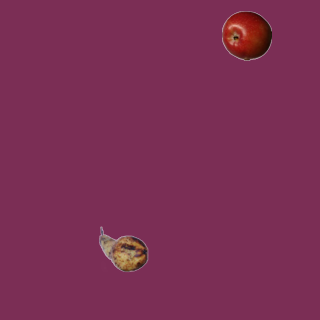Apple Braeburn: (221, 10, 271, 60)
Pear Abate: (98, 224, 148, 274)
